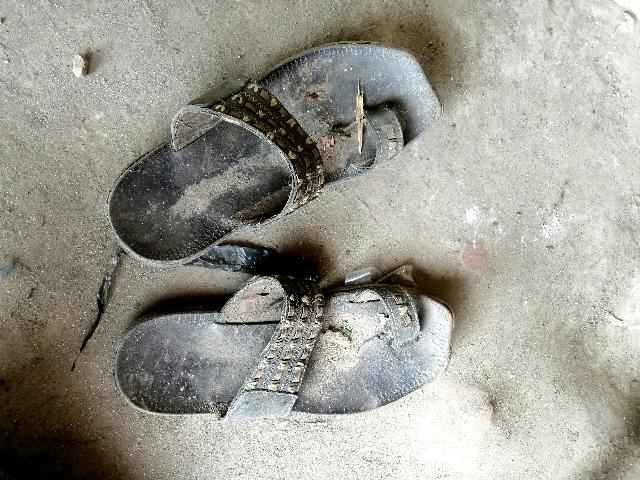sandal: (71, 0, 458, 283), (128, 314, 458, 419)
